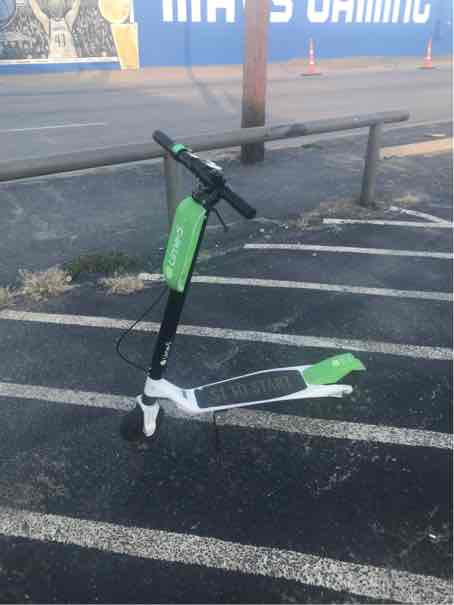scooter: (115, 126, 373, 448)
